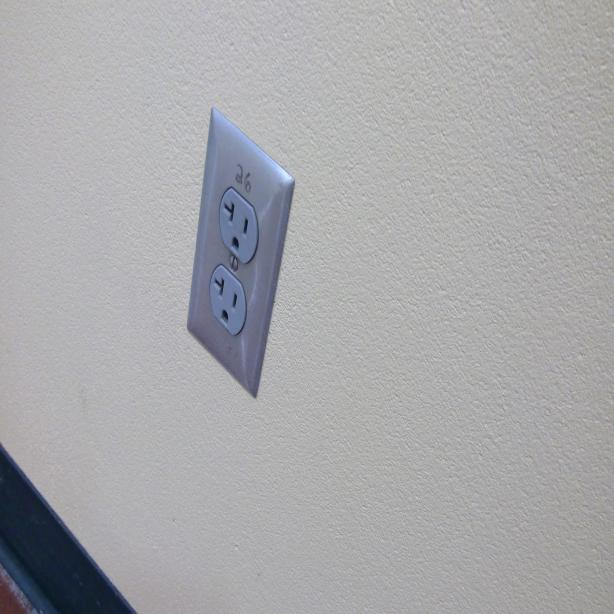typeb: (218, 189, 260, 256), (209, 266, 249, 336)
